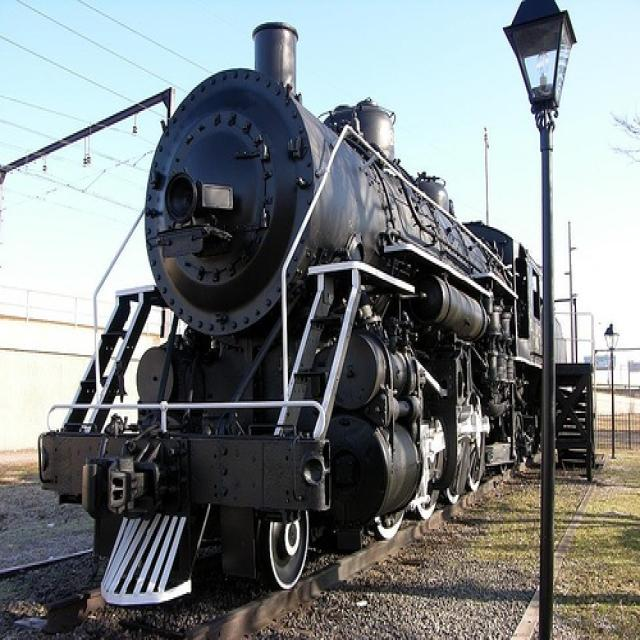train: (42, 18, 587, 612)
